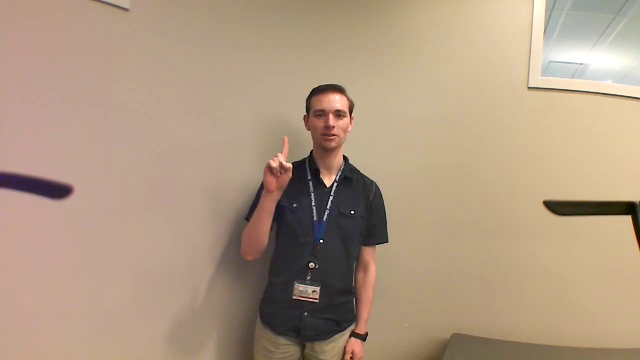up: (259, 131, 295, 199)
